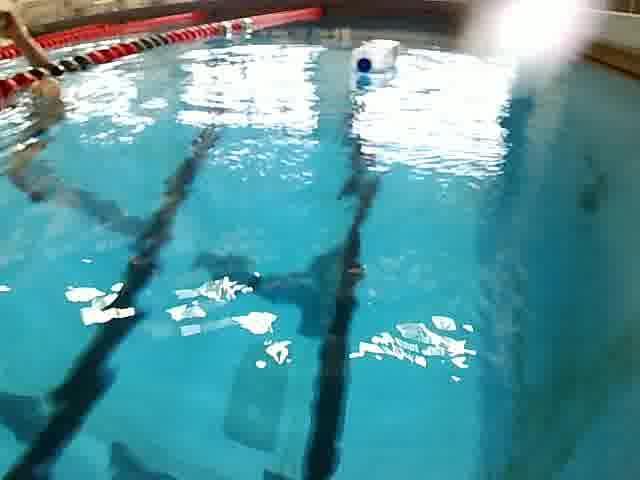Bottle: (340, 28, 405, 81), (28, 70, 74, 107)
Can: (230, 16, 258, 36)
